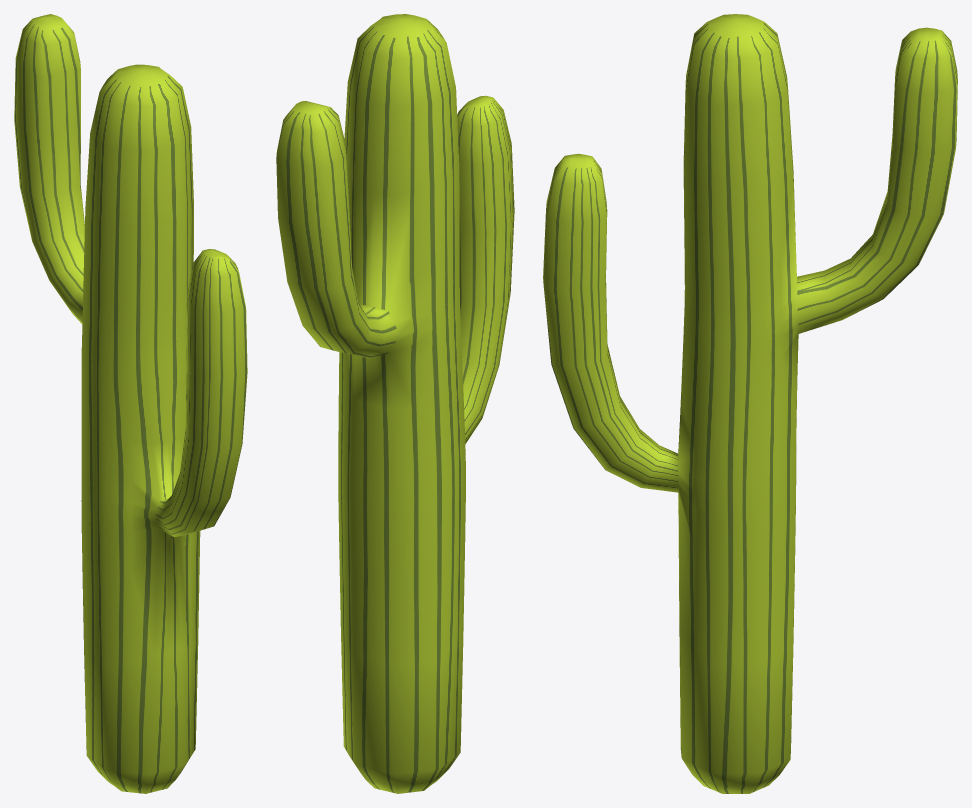
The model's file is Cactus_tall.obj.
3 views of the same model, side by side, from view 1: azimuth 30°, elevation 25°; view 2: azimuth 150°, elevation 25°; view 3: azimuth 270°, elevation 25° (orthographic). The views are drawn at different scales.
Visible parts, largest first — view 1: Cactus_finnished_without_normal_Cylinder.005; view 2: Cactus_finnished_without_normal_Cylinder.005; view 3: Cactus_finnished_without_normal_Cylinder.005.
Boxes of the visible parts, bbox=[...] form: Cactus_finnished_without_normal_Cylinder.005: bbox=[14, 14, 247, 793]; Cactus_finnished_without_normal_Cylinder.005: bbox=[276, 14, 514, 793]; Cactus_finnished_without_normal_Cylinder.005: bbox=[543, 14, 957, 793].
Bounding box in the file's own units: 0.4053 × 2.82 × 1.39.
